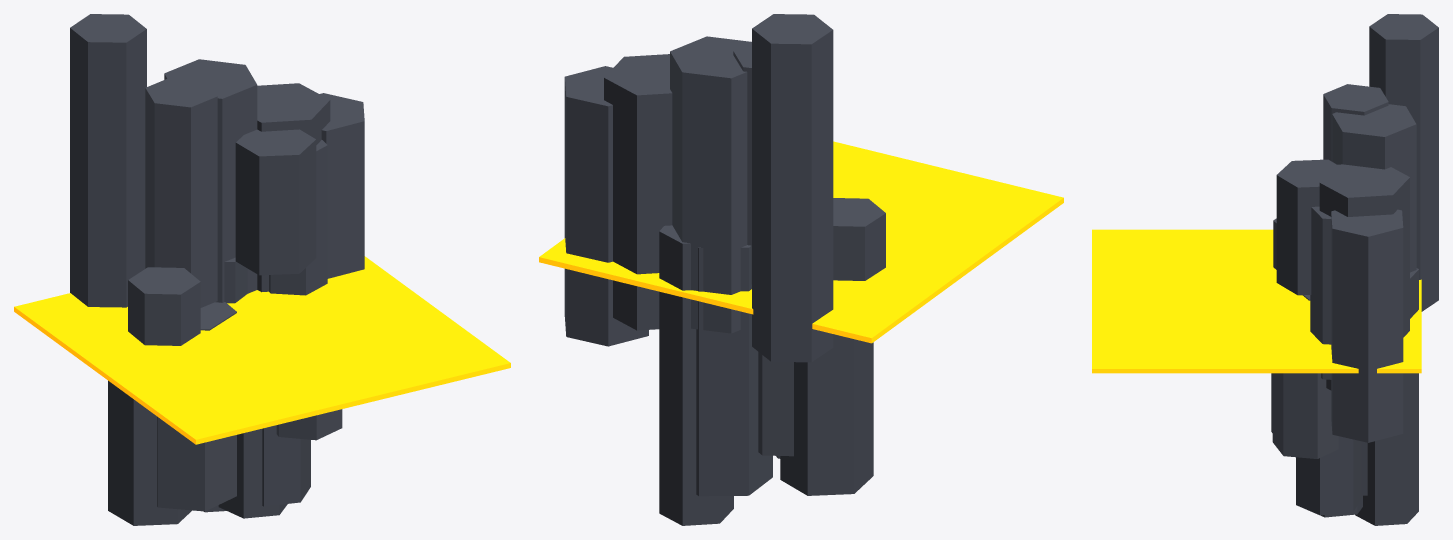
Rendered from obsidian_crags.glb.
3 renders of one model, left to right at view 1: azimuth 30°, elevation 25°; view 2: azimuth 150°, elevation 25°; view 3: azimuth 270°, elevation 25°, orthographic. The views are drawn at different scales.
Parts seen in each view (by area): view 1: Cube, Cylinder.014, Cylinder.015, Cylinder.001, Cylinder.012, Cylinder.007, Cylinder.009, Cylinder.005, Cylinder.002, Cylinder.006, Cylinder.008, Cylinder.004 (+4 smaller); view 2: Cylinder.014, Cube, Cylinder.007, Cylinder.006, Cylinder.012, Cylinder.009, Cylinder.003, Cylinder.011, Cylinder.002, Cylinder.010, Cylinder.015; view 3: Cube, Cylinder.012, Cylinder.014, Cylinder.011, Cylinder.007, Cylinder.001, Cylinder.006, Cylinder.013, Cylinder.008, Cylinder.004, Cylinder.015.
Boxes of the visible parts, <box> form: Cube: <box>14,256,510,444</box>; Cylinder.014: <box>70,14,146,307</box>; Cylinder.015: <box>145,76,217,307</box>; Cylinder.001: <box>235,129,316,275</box>; Cylinder.012: <box>319,93,364,278</box>; Cylinder.007: <box>164,59,257,302</box>; Cylinder.009: <box>108,380,191,525</box>; Cylinder.005: <box>157,416,236,511</box>; Cylinder.002: <box>128,267,200,345</box>; Cylinder.006: <box>257,83,330,292</box>; Cylinder.008: <box>262,425,310,506</box>; Cylinder.004: <box>269,140,327,295</box>; Cylinder.014: <box>752,14,833,362</box>; Cube: <box>539,141,1063,343</box>; Cylinder.007: <box>670,36,751,333</box>; Cylinder.006: <box>604,54,672,330</box>; Cylinder.012: <box>564,66,648,346</box>; Cylinder.009: <box>780,334,873,495</box>; Cylinder.003: <box>696,245,772,496</box>; Cylinder.011: <box>659,225,733,525</box>; Cylinder.002: <box>833,198,885,280</box>; Cylinder.010: <box>758,352,793,456</box>; Cylinder.015: <box>733,43,751,283</box>; Cube: <box>1092,229,1421,373</box>; Cylinder.012: <box>1331,209,1403,442</box>; Cylinder.014: <box>1369,14,1438,311</box>; Cylinder.011: <box>1355,268,1418,525</box>; Cylinder.007: <box>1332,104,1416,272</box>; Cylinder.001: <box>1276,159,1336,295</box>; Cylinder.006: <box>1319,164,1409,390</box>; Cylinder.013: <box>1272,373,1338,458</box>; Cylinder.008: <box>1296,436,1362,515</box>; Cylinder.004: <box>1310,206,1331,379</box>; Cylinder.015: <box>1323,84,1388,161</box>.
Bounding box in the file's own units: 10.16 × 14.79 × 10.52.
